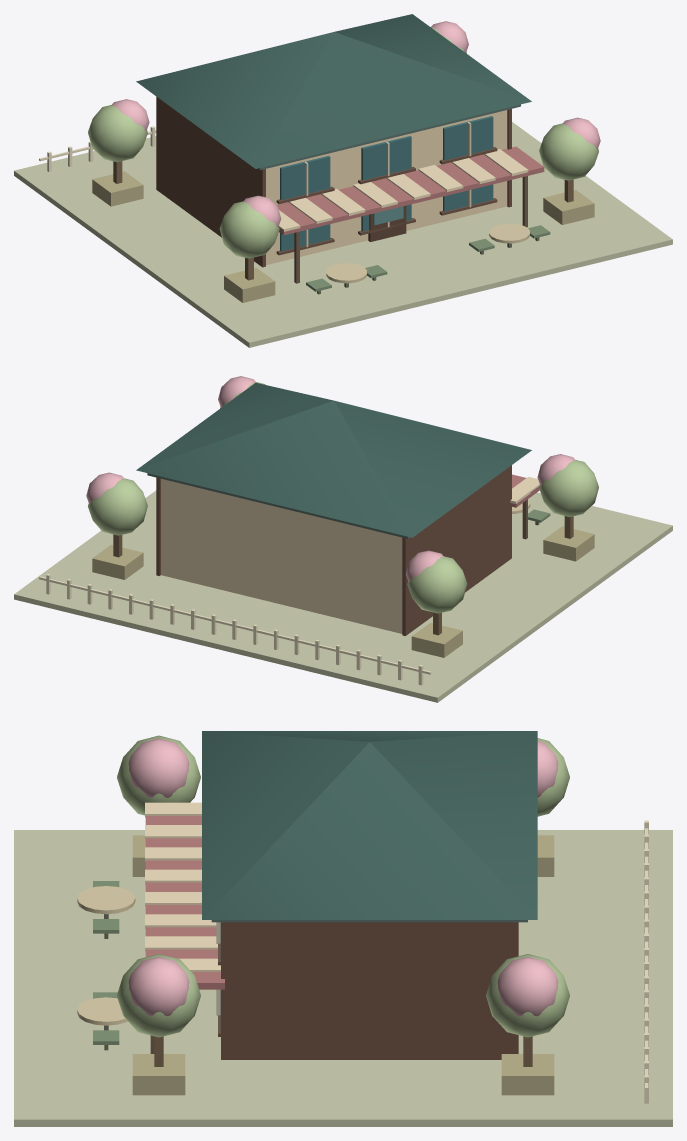
The model's file is example-building.glb.
The picture shows the model from 3 angles, top to bottom: view 1: azimuth 30°, elevation 25°; view 2: azimuth 150°, elevation 25°; view 3: azimuth 270°, elevation 25°; orthographic projection. The views are drawn at different scales.
Parts seen in each view (by area): view 1: garden foundation, hip roof, detail (×9), tree crown (×3), cafe walls, window (×5), awning, planter (×3), sakura (×4), table (×2), entry; view 2: garden foundation, hip roof, cafe walls, detail (×4), tree crown (×3), planter (×3), sakura (×4); view 3: garden foundation, hip roof, detail (×9), sakura (×4), tree crown (×4), planter (×3), awning, table (×2).
Part boxes in pixels (left/top/right/bottom): garden foundation: left=14, top=122, right=672, bottom=347; hip roof: left=136, top=14, right=531, bottom=168; detail (×9): left=156, top=96, right=528, bottom=267; tree crown (×3): left=88, top=105, right=598, bottom=258; cafe walls: left=266, top=110, right=507, bottom=265; window (×5): left=280, top=116, right=493, bottom=251; awning: left=276, top=146, right=544, bottom=235; planter (×3): left=92, top=171, right=594, bottom=302; sakura (×4): left=111, top=21, right=600, bottom=227; table (×2): left=326, top=223, right=530, bottom=283; entry: left=368, top=205, right=406, bottom=241; garden foundation: left=14, top=490, right=672, bottom=702; hip roof: left=136, top=382, right=531, bottom=537; cafe walls: left=161, top=478, right=402, bottom=633; detail (×4): left=39, top=465, right=511, bottom=674; tree crown (×3): left=88, top=460, right=598, bottom=613; planter (×3): left=92, top=526, right=594, bottom=657; sakura (×4): left=86, top=376, right=575, bottom=582; garden foundation: left=14, top=830, right=672, bottom=1126; hip roof: left=202, top=731, right=537, bottom=919; detail (×9): left=145, top=802, right=527, bottom=1059; sakura (×4): left=128, top=738, right=558, bottom=1016; tree crown (×4): left=117, top=735, right=569, bottom=1037; planter (×3): left=132, top=835, right=554, bottom=1095; awning: left=145, top=816, right=224, bottom=989; table (×2): left=77, top=886, right=135, bottom=1025.
Size of the model in its own units: 26 by 10.05 by 25.
